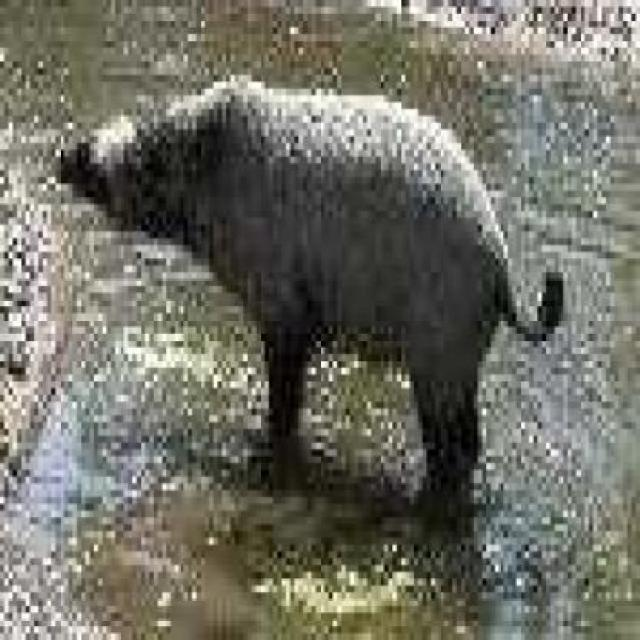Boar: (83, 51, 591, 502)
